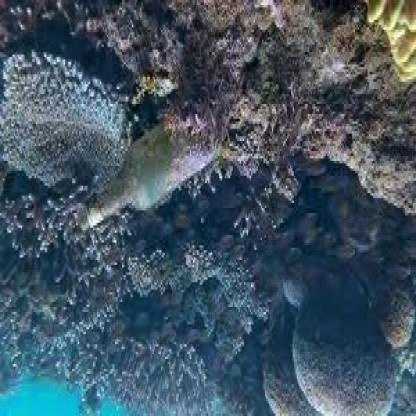gbottle: (82, 114, 226, 228)
